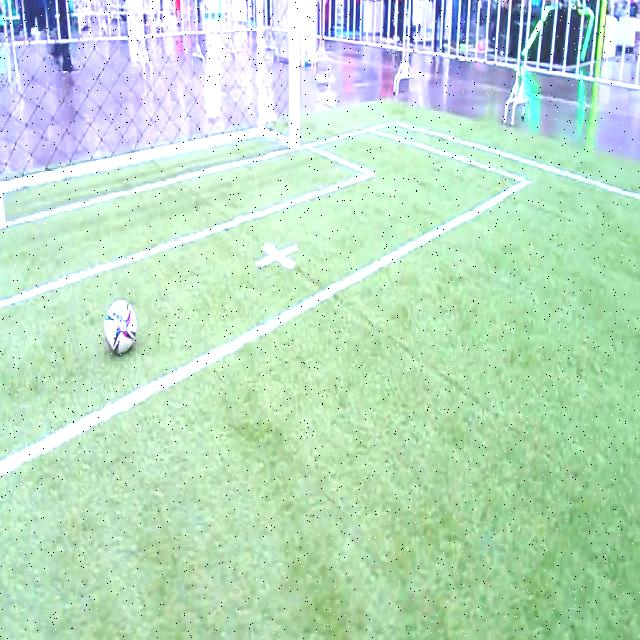ball: (104, 298, 137, 354)
